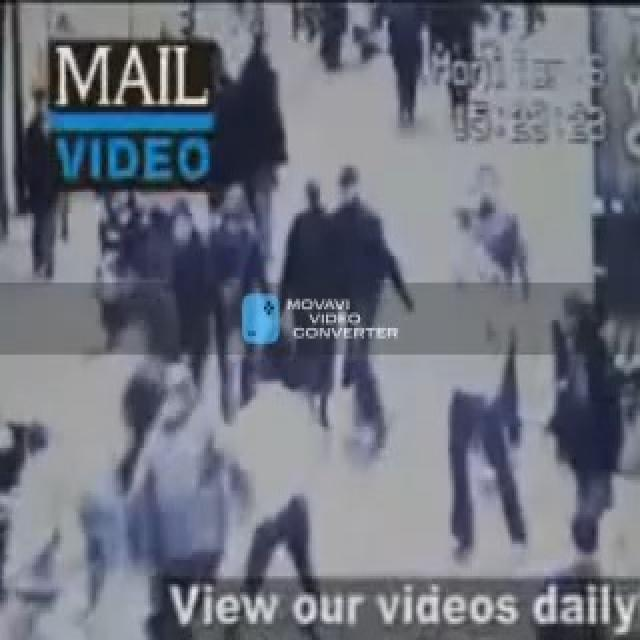non-voilence: (0, 0, 638, 637), (44, 32, 222, 189), (446, 326, 528, 558)
